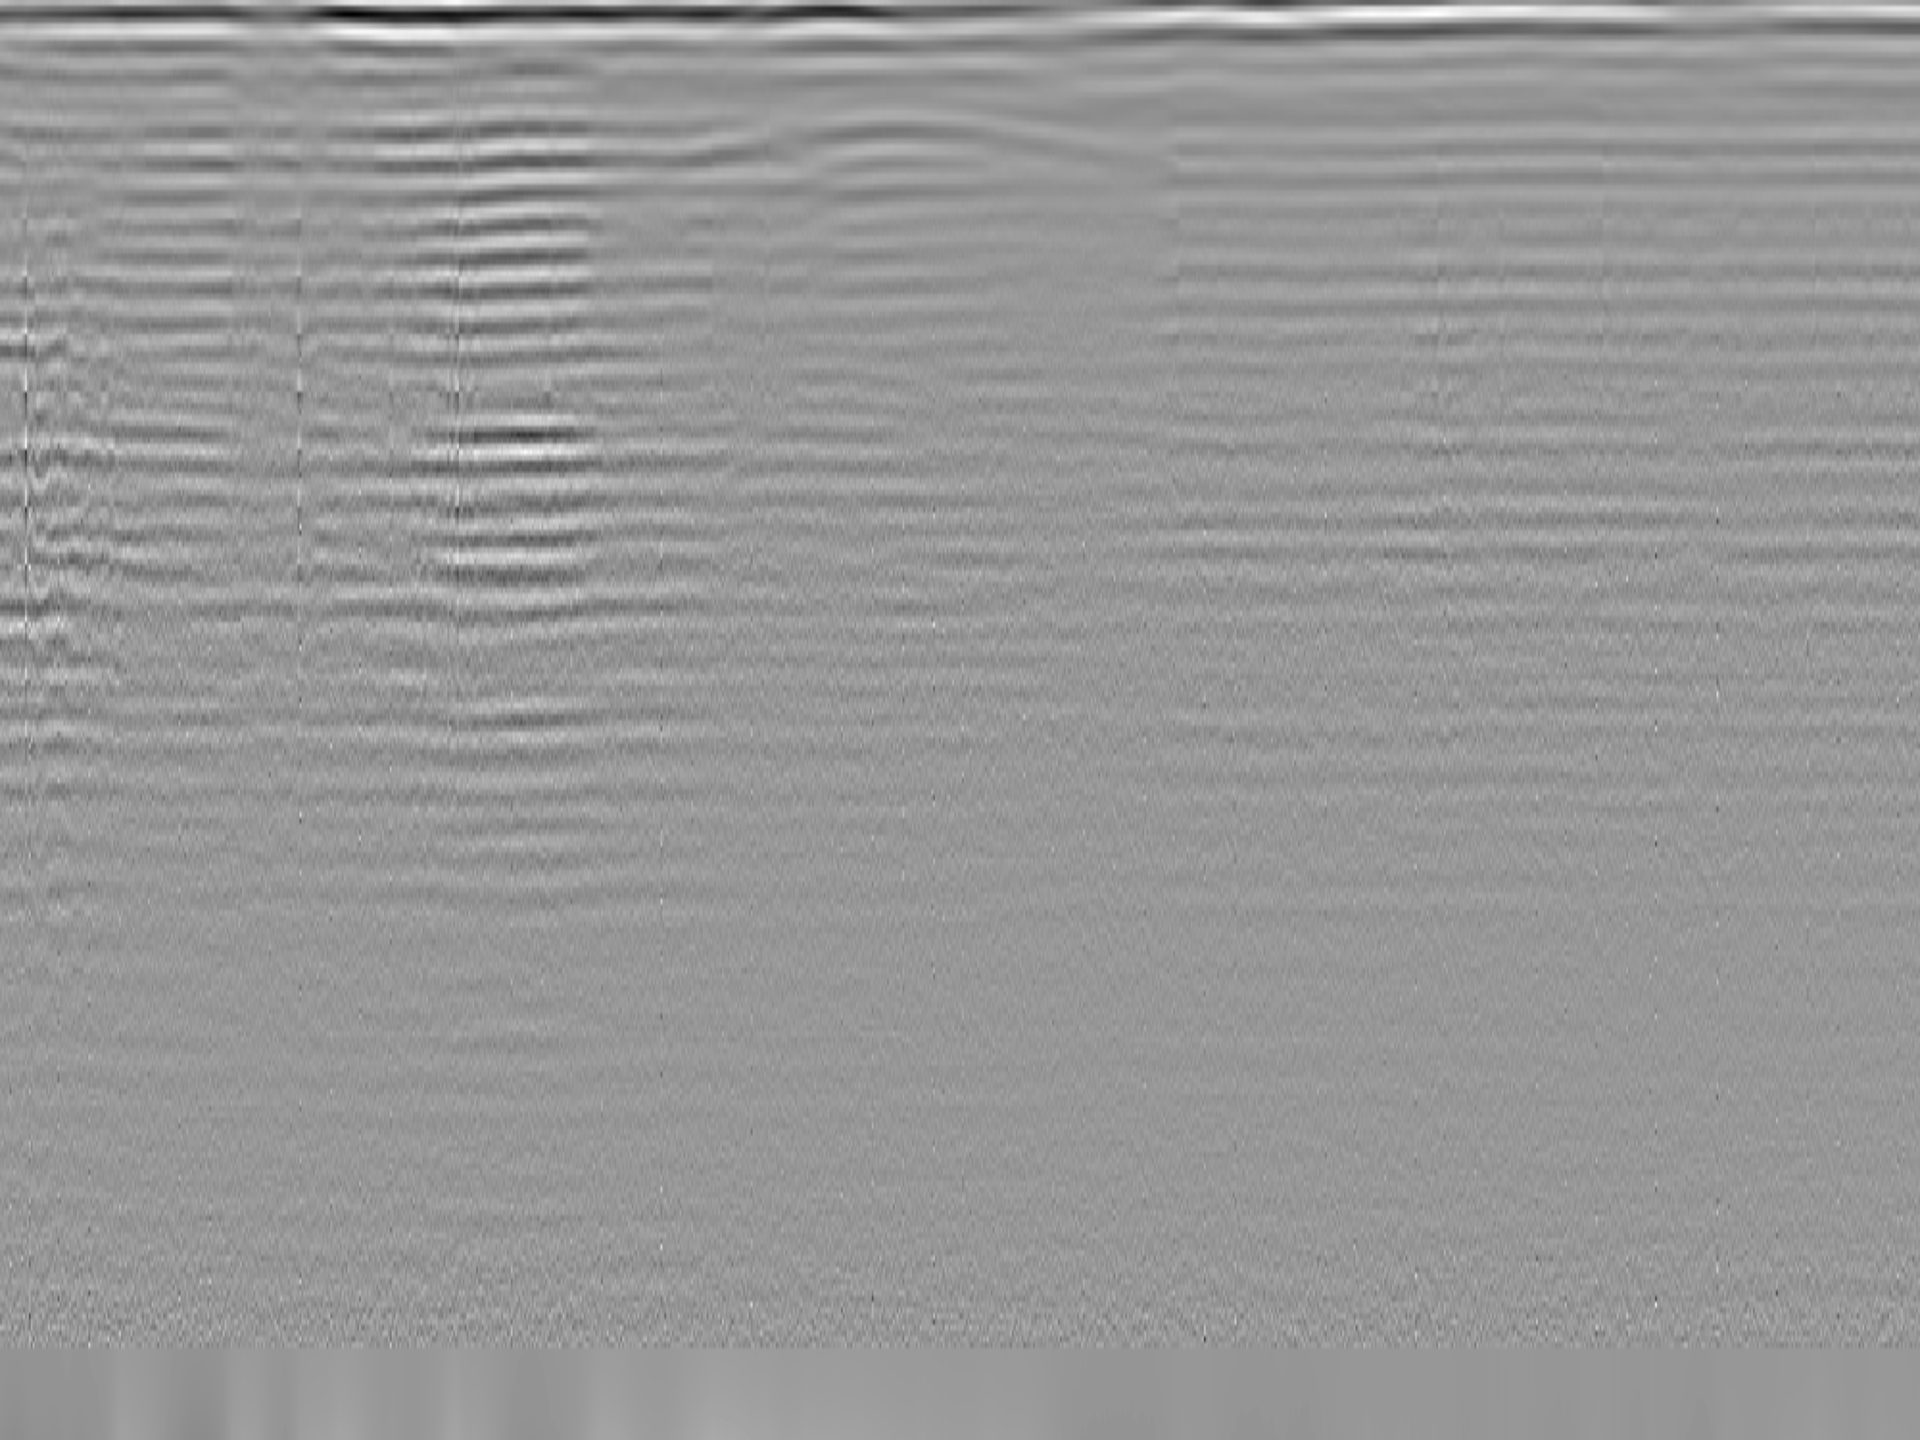Tunnel: (652, 112, 1181, 175)
